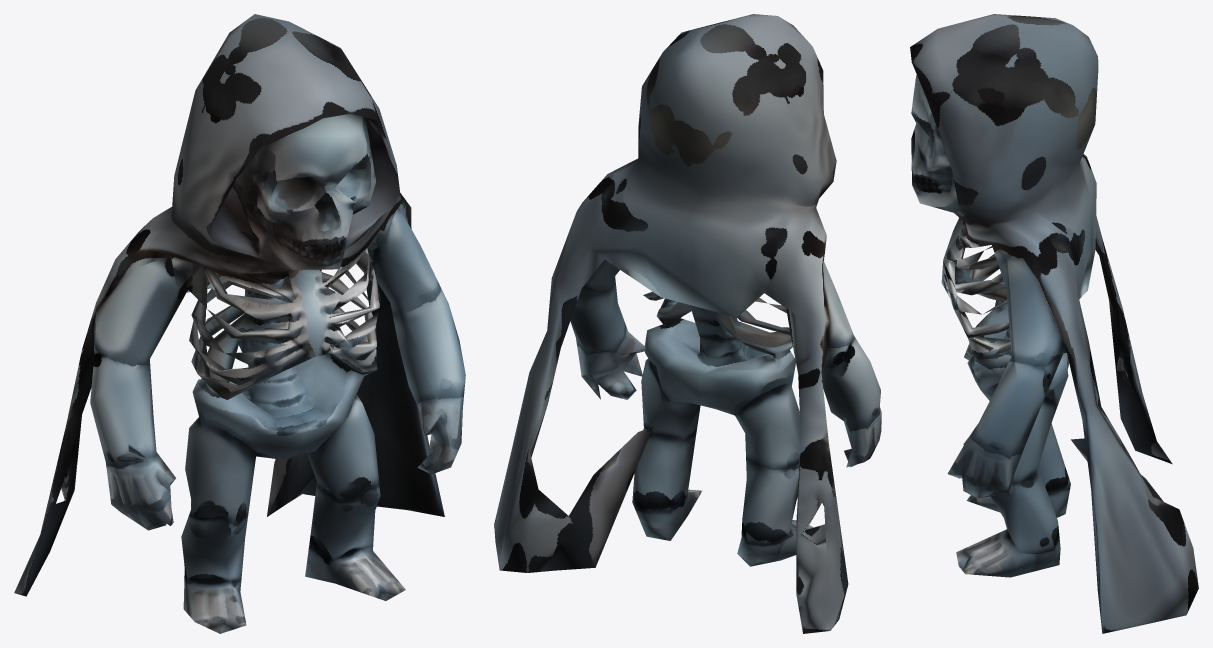
Rendered from stray_single_1500.glb.
The picture shows the model from 3 angles, left to right: view 1: azimuth 30°, elevation 25°; view 2: azimuth 150°, elevation 25°; view 3: azimuth 270°, elevation 25°; orthographic projection. The views are drawn at different scales.
Bounding box in the file's own units: 0.6151 × 0.8389 × 0.4179.
Materials: 1 (1 with a texture image).
